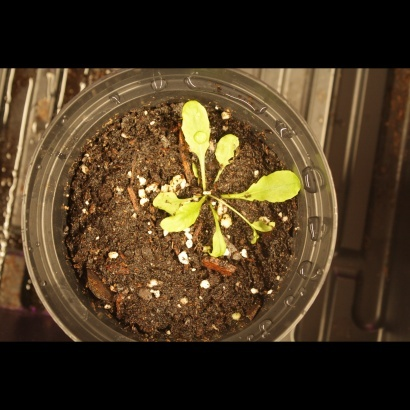leaf: (171, 99, 212, 169), (245, 164, 305, 205), (201, 220, 236, 262), (161, 200, 203, 235), (214, 130, 249, 169), (240, 217, 278, 246), (151, 187, 184, 213)
